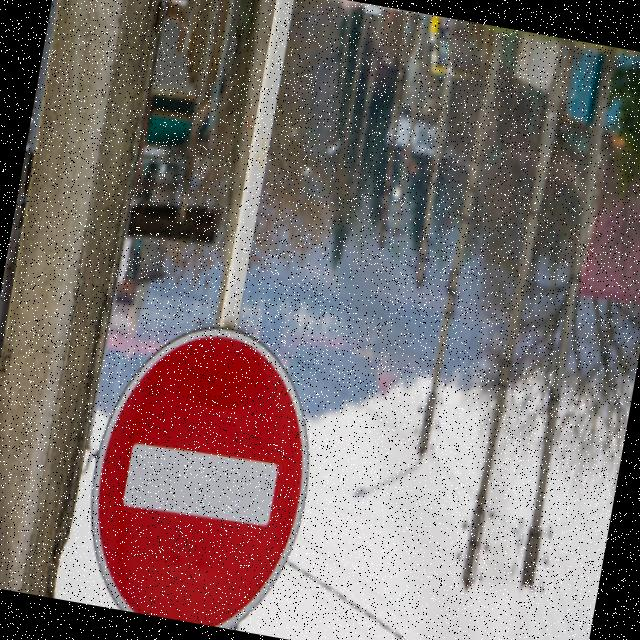do_not_enter: (62, 286, 353, 640)
